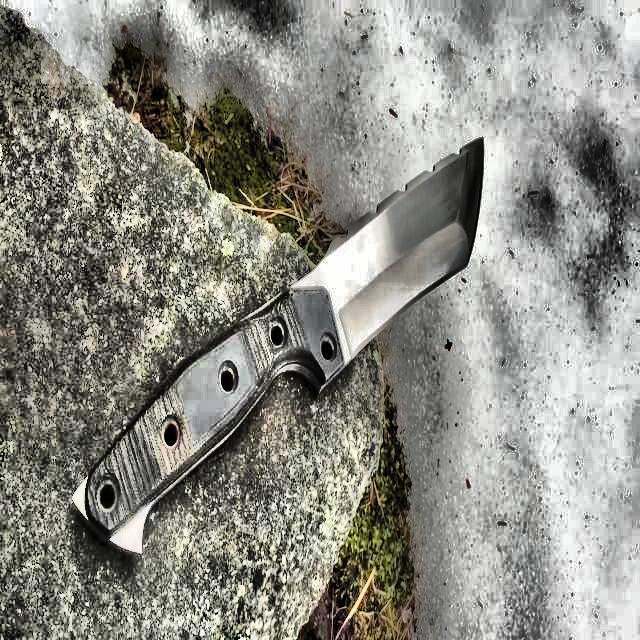knife: (73, 140, 483, 550)
